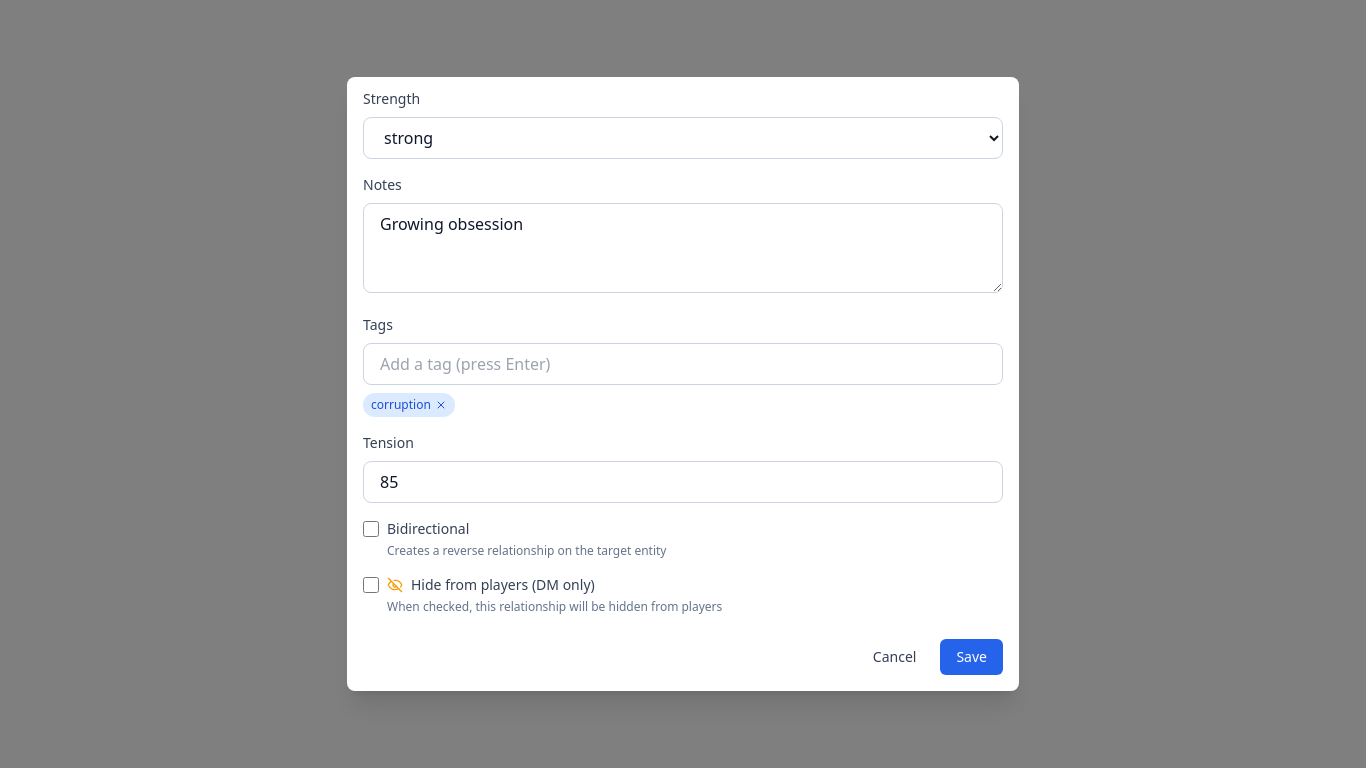
it: EditRelationshipModal - Save Functionality › should show loading state while saving
(page scrolled)
Step 1. Click the button "Save" → (972, 657), box [940,639,1003,675]
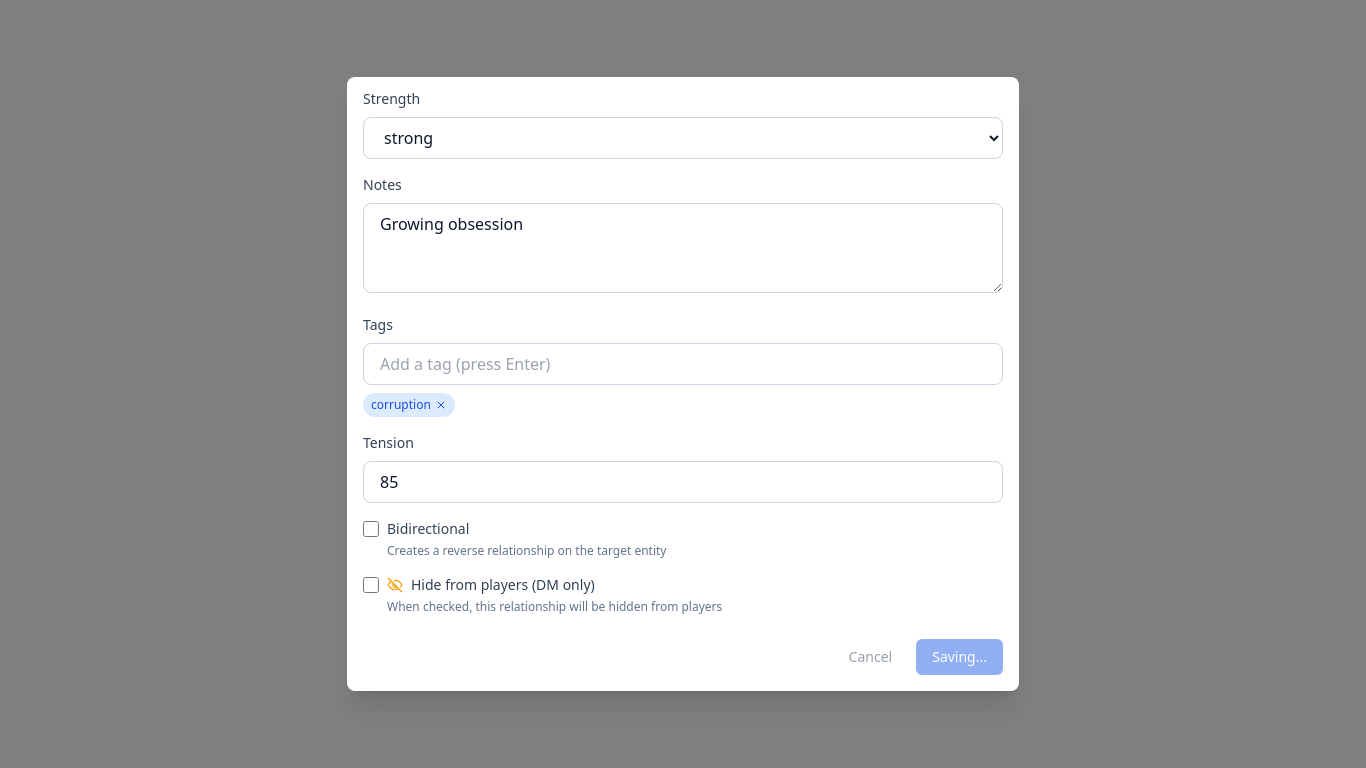
Now the button named "save" shows "Saving", box [916,639,1003,675]
Now the button named "save" is disabled, box [916,639,1003,675]
